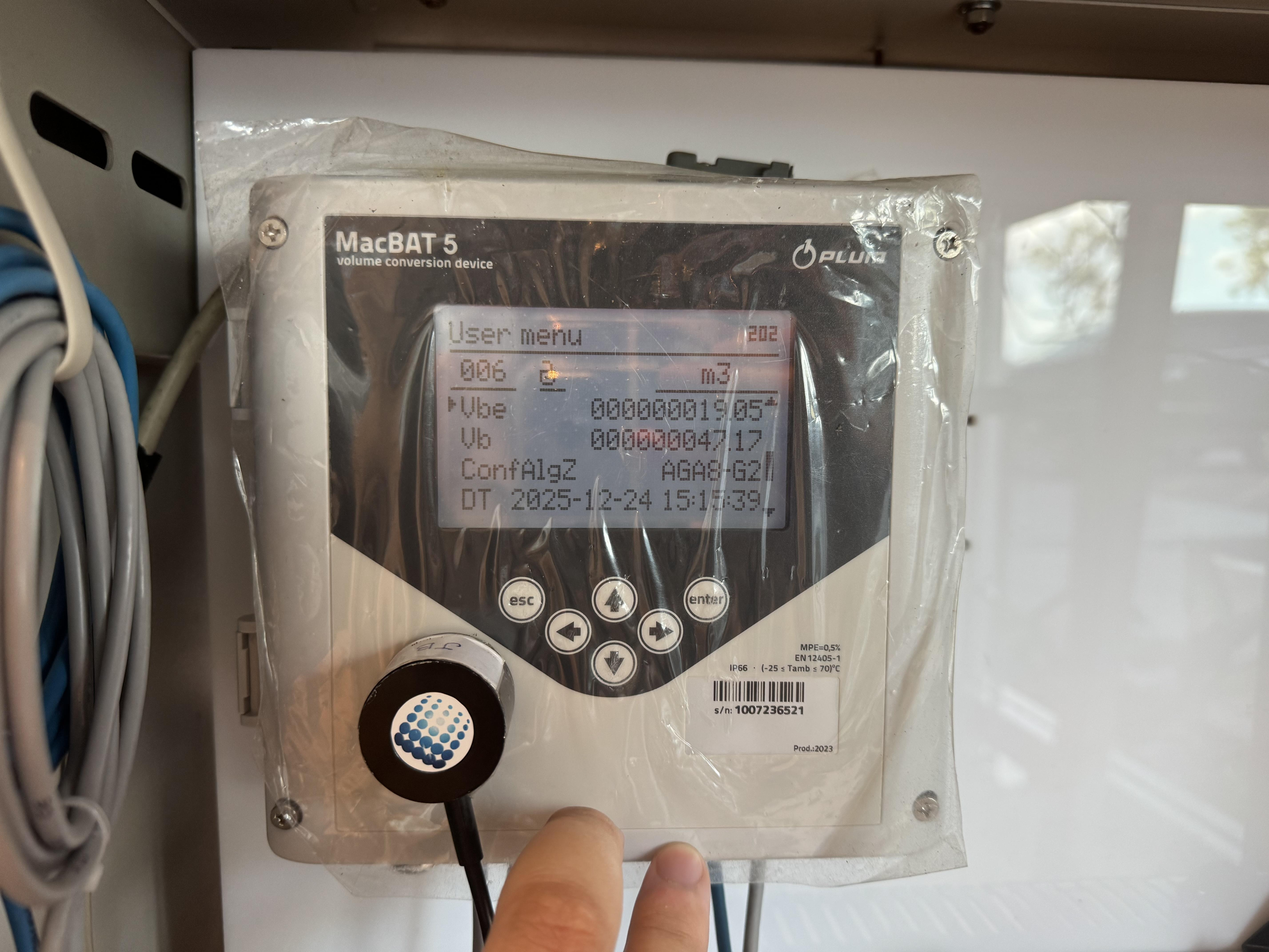digital_screen: (434, 305, 792, 529)
